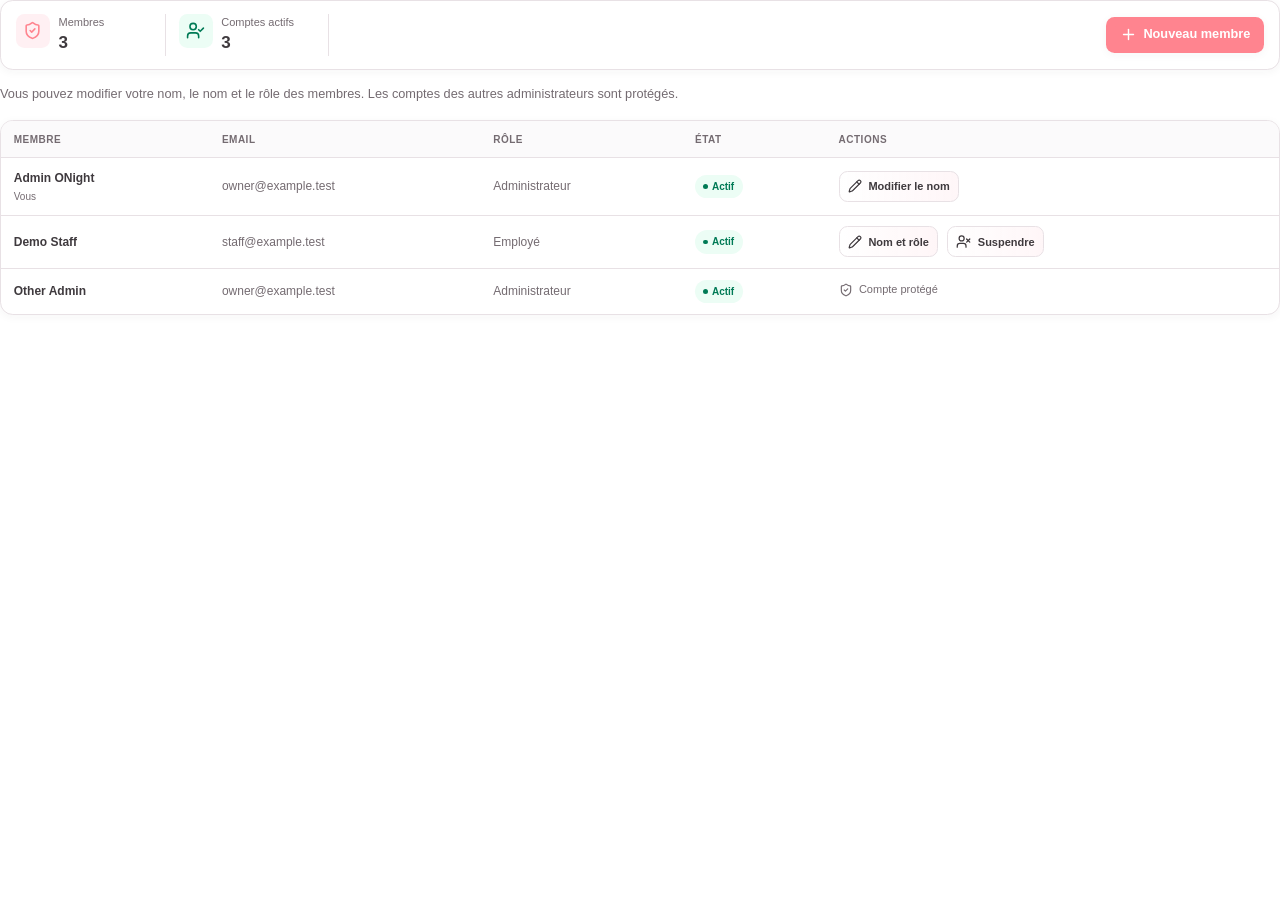
Test: team name editing › keeps the editor open and reports permission errors
The image size is (1280, 900).
Click the button with aria-label "Modifier le nom de Demo Staff": (888, 242) top-left (838, 226), bottom-right (938, 258)
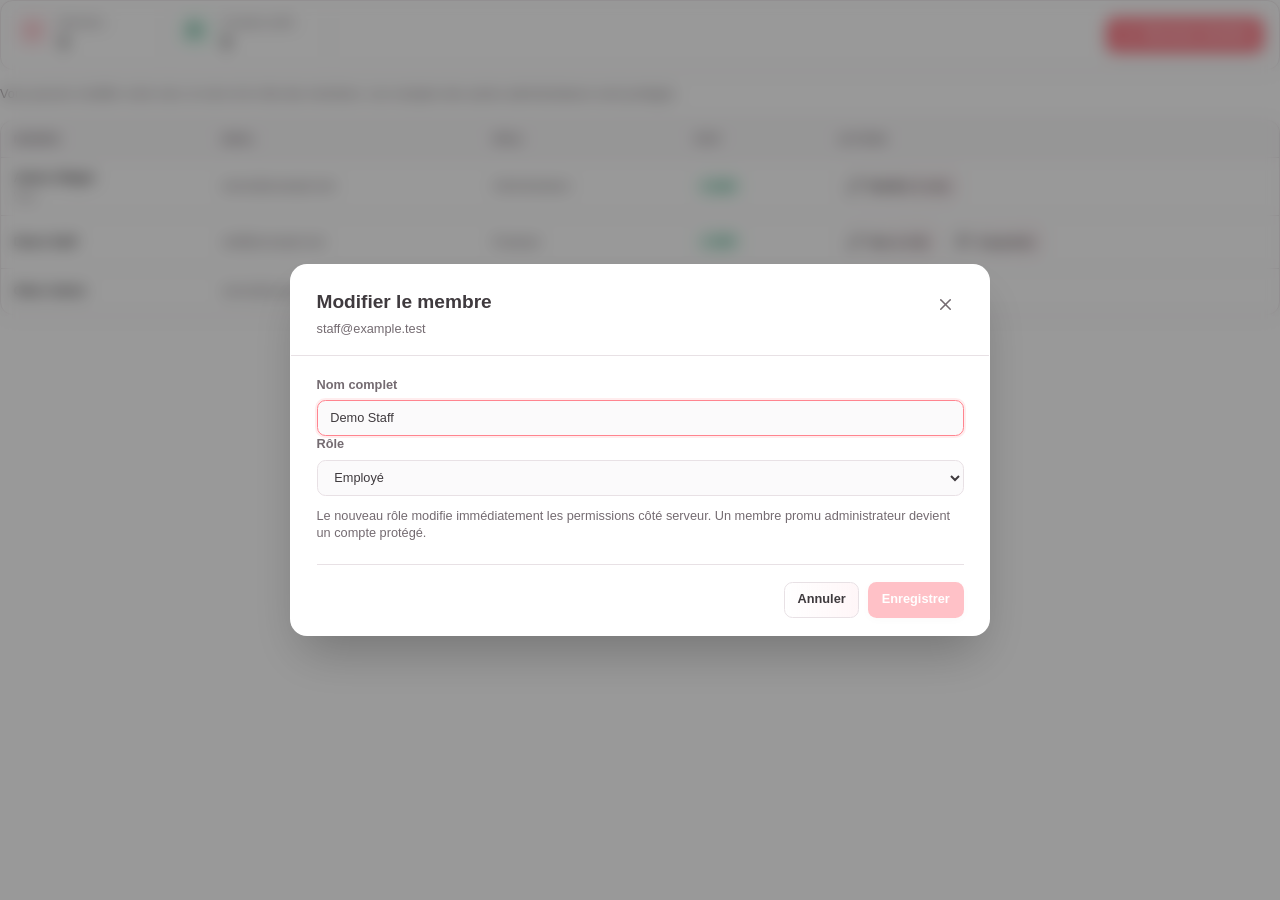
Replace the text in the field labelled "Nom complet" with "Changed": (640, 418) top-left (316, 400), bottom-right (964, 436)
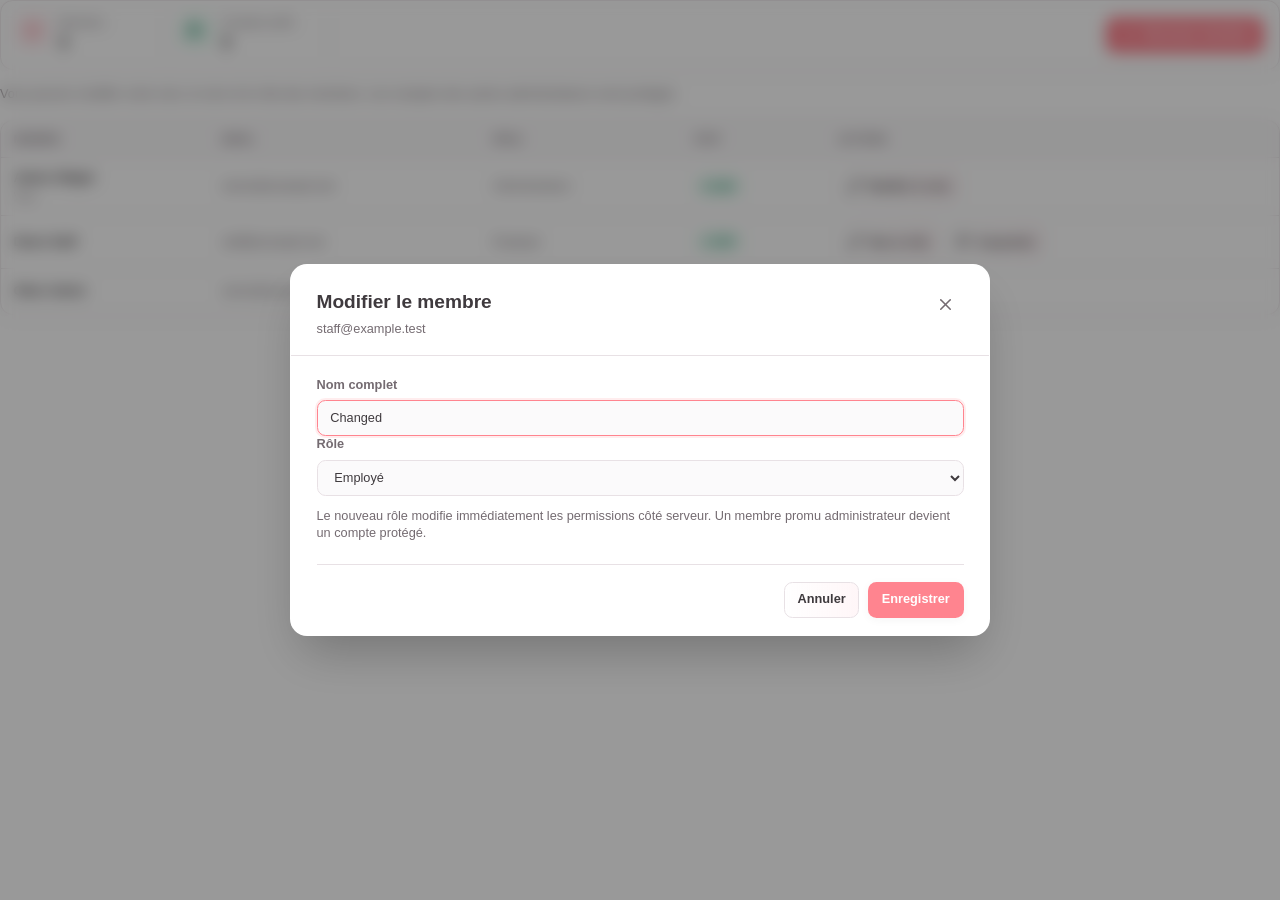
Click the button "Enregistrer": (916, 600) top-left (868, 582), bottom-right (964, 618)
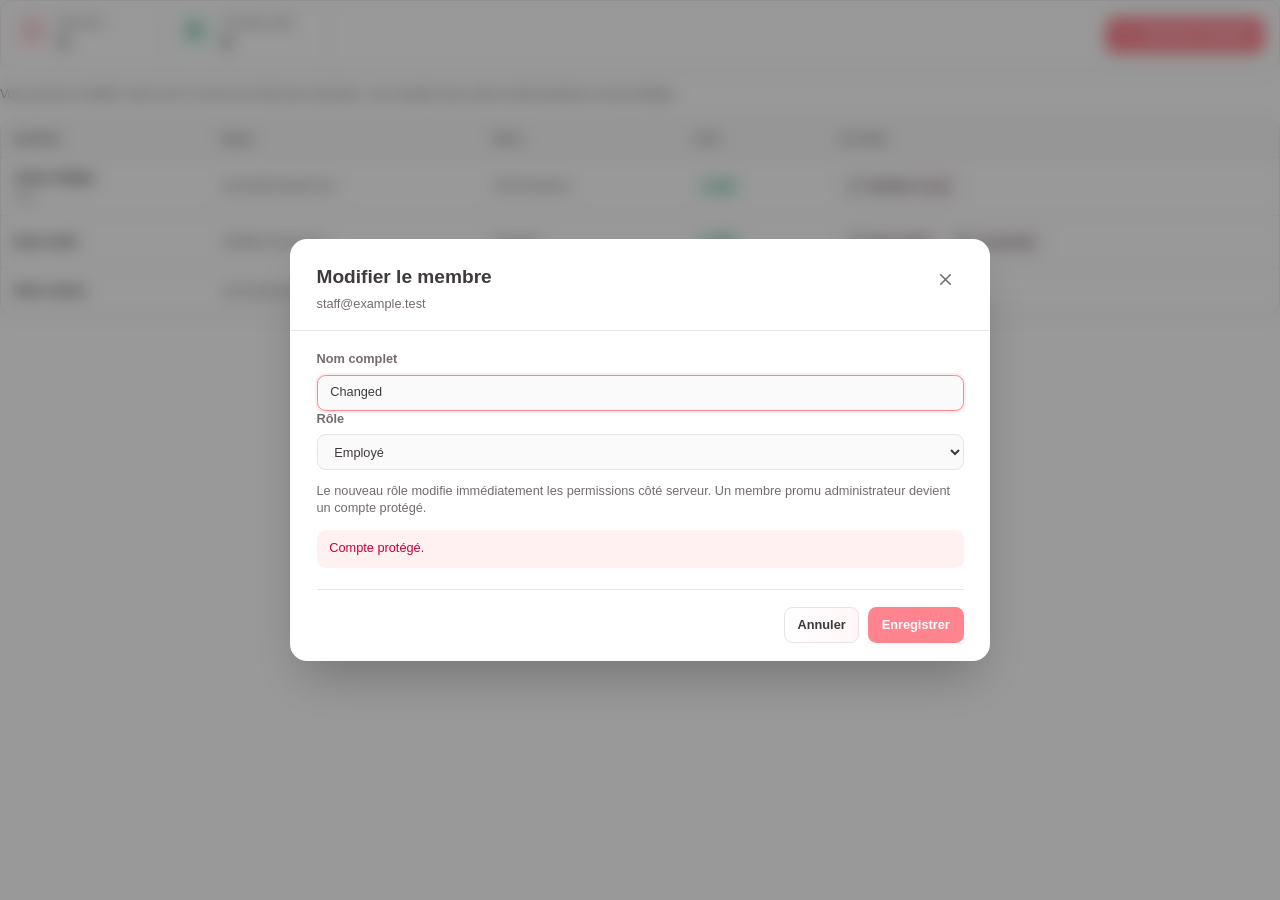
Now the dialog is shown, box top-left (290, 239), bottom-right (990, 661)
Now the message reads "Compte protégé.", box top-left (329, 540), bottom-right (424, 555)
